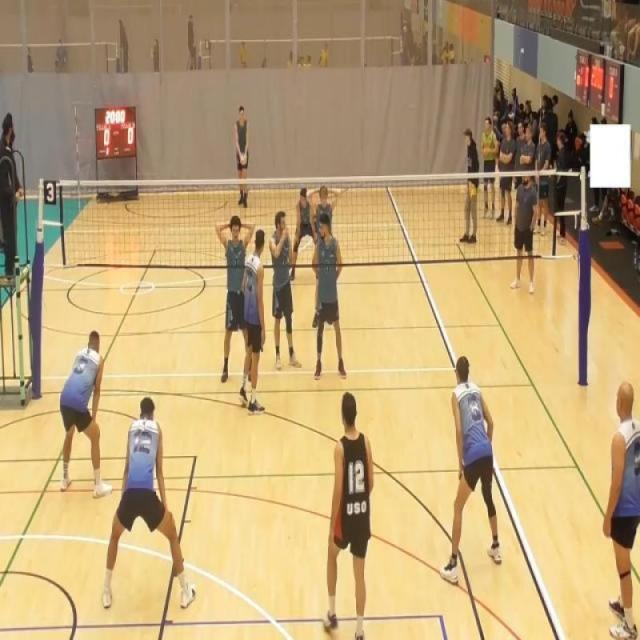volleyball: (240, 152, 247, 166)
